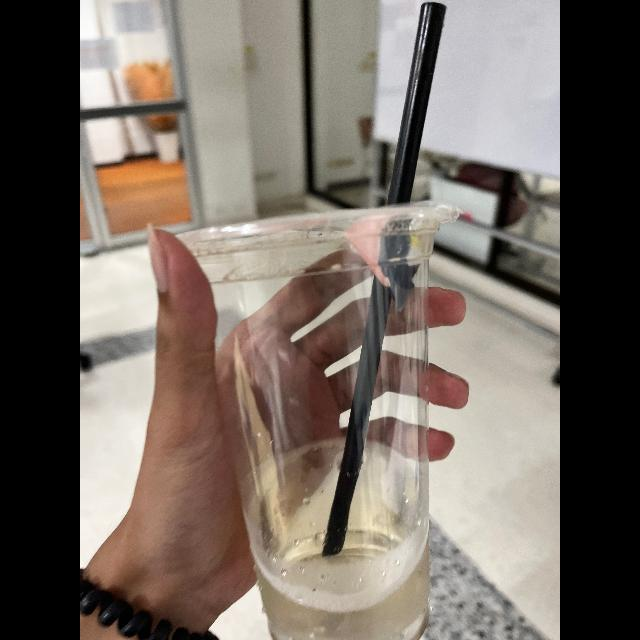plastic_cup: (162, 196, 472, 640)
